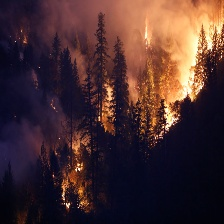fire: (157, 16, 222, 141), (143, 12, 152, 46), (58, 191, 71, 209), (72, 161, 87, 173)
smoke: (47, 3, 212, 48), (1, 118, 46, 182)
